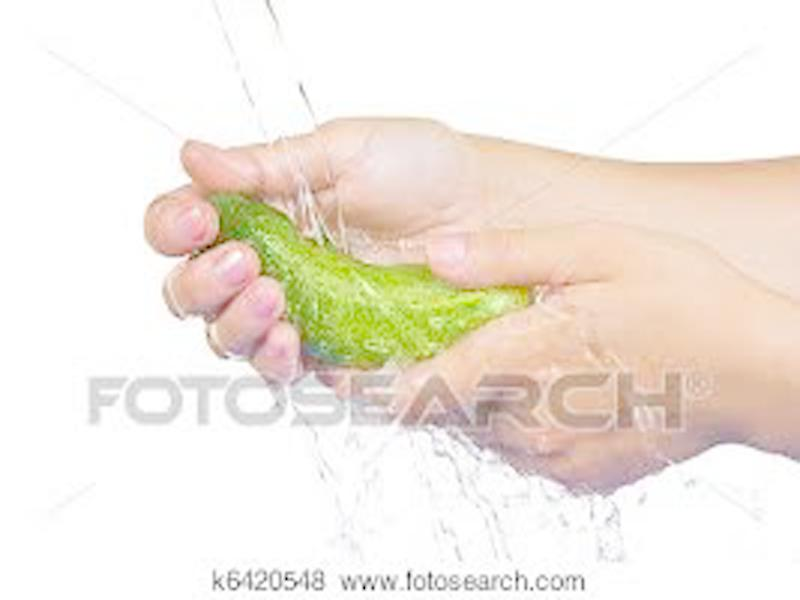Cucumber: (204, 190, 542, 375)
